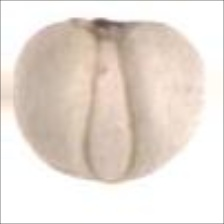L5: (81, 37, 141, 185), (70, 15, 165, 42), (76, 167, 148, 188)
L6: (11, 13, 207, 186)
